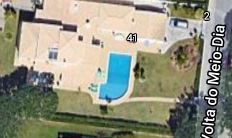pool: (108, 53, 128, 96)
